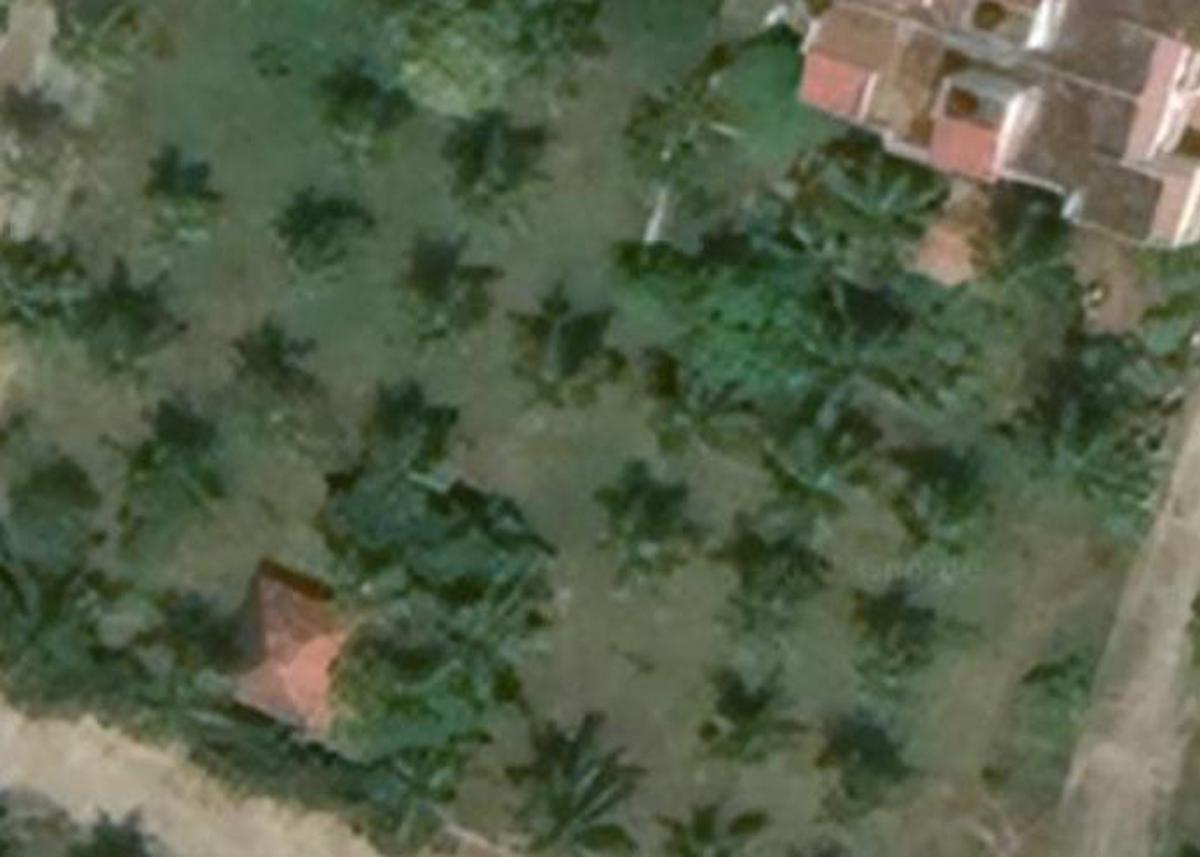coconut: (785, 290, 930, 430), (626, 55, 757, 188), (496, 747, 654, 851), (816, 149, 947, 268), (888, 479, 1020, 590), (1024, 398, 1144, 505), (755, 425, 876, 529), (642, 371, 768, 463), (597, 492, 700, 600), (73, 296, 195, 384), (710, 564, 820, 658), (635, 790, 794, 851), (700, 696, 816, 775), (0, 249, 90, 350), (397, 276, 503, 358), (271, 210, 360, 304), (461, 156, 557, 240), (50, 3, 158, 76), (513, 348, 623, 418), (851, 635, 947, 710), (132, 195, 217, 268), (325, 104, 404, 174)
